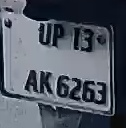1: (72, 25, 81, 54)
2: (69, 74, 84, 104)
3: (82, 25, 97, 53), (95, 81, 107, 108)
6: (56, 74, 70, 100), (82, 80, 95, 107)
A: (24, 71, 39, 92)
K: (37, 69, 54, 97)
P: (52, 22, 63, 48)
U: (38, 20, 53, 46)
